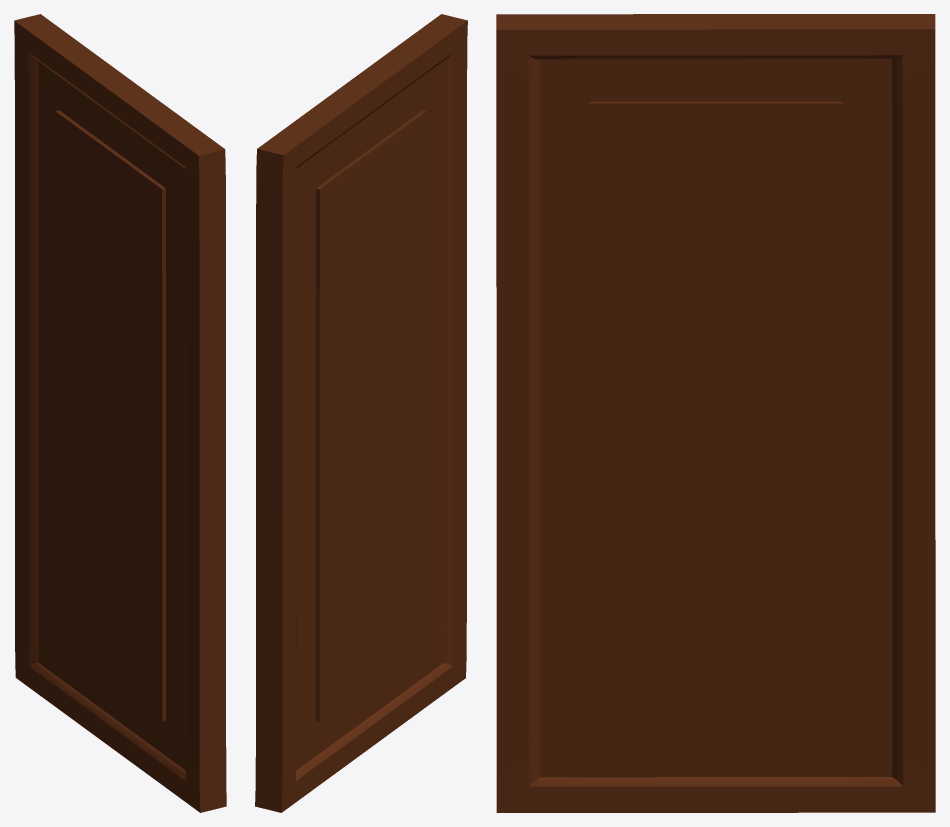
The model's file is Single_Door.fbx.
3 views of the same model, side by side, from view 1: azimuth 30°, elevation 25°; view 2: azimuth 150°, elevation 25°; view 3: azimuth 270°, elevation 25° (orthographic). The views are drawn at different scales.
Parts seen in each view (by area): view 1: Single_Door; view 2: Single_Door; view 3: Single_Door.
Boxes of the visible parts, left/top/right/bottom form: Single_Door: left=14, top=14, right=226, bottom=812; Single_Door: left=255, top=14, right=467, bottom=812; Single_Door: left=496, top=14, right=935, bottom=812.
Size of the model in its own units: 8.17 by 181 by 92.31.
